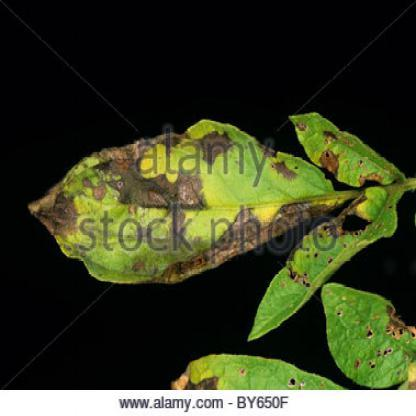Potato leaf late blight: (24, 117, 357, 290), (286, 106, 410, 198), (315, 275, 415, 384)
